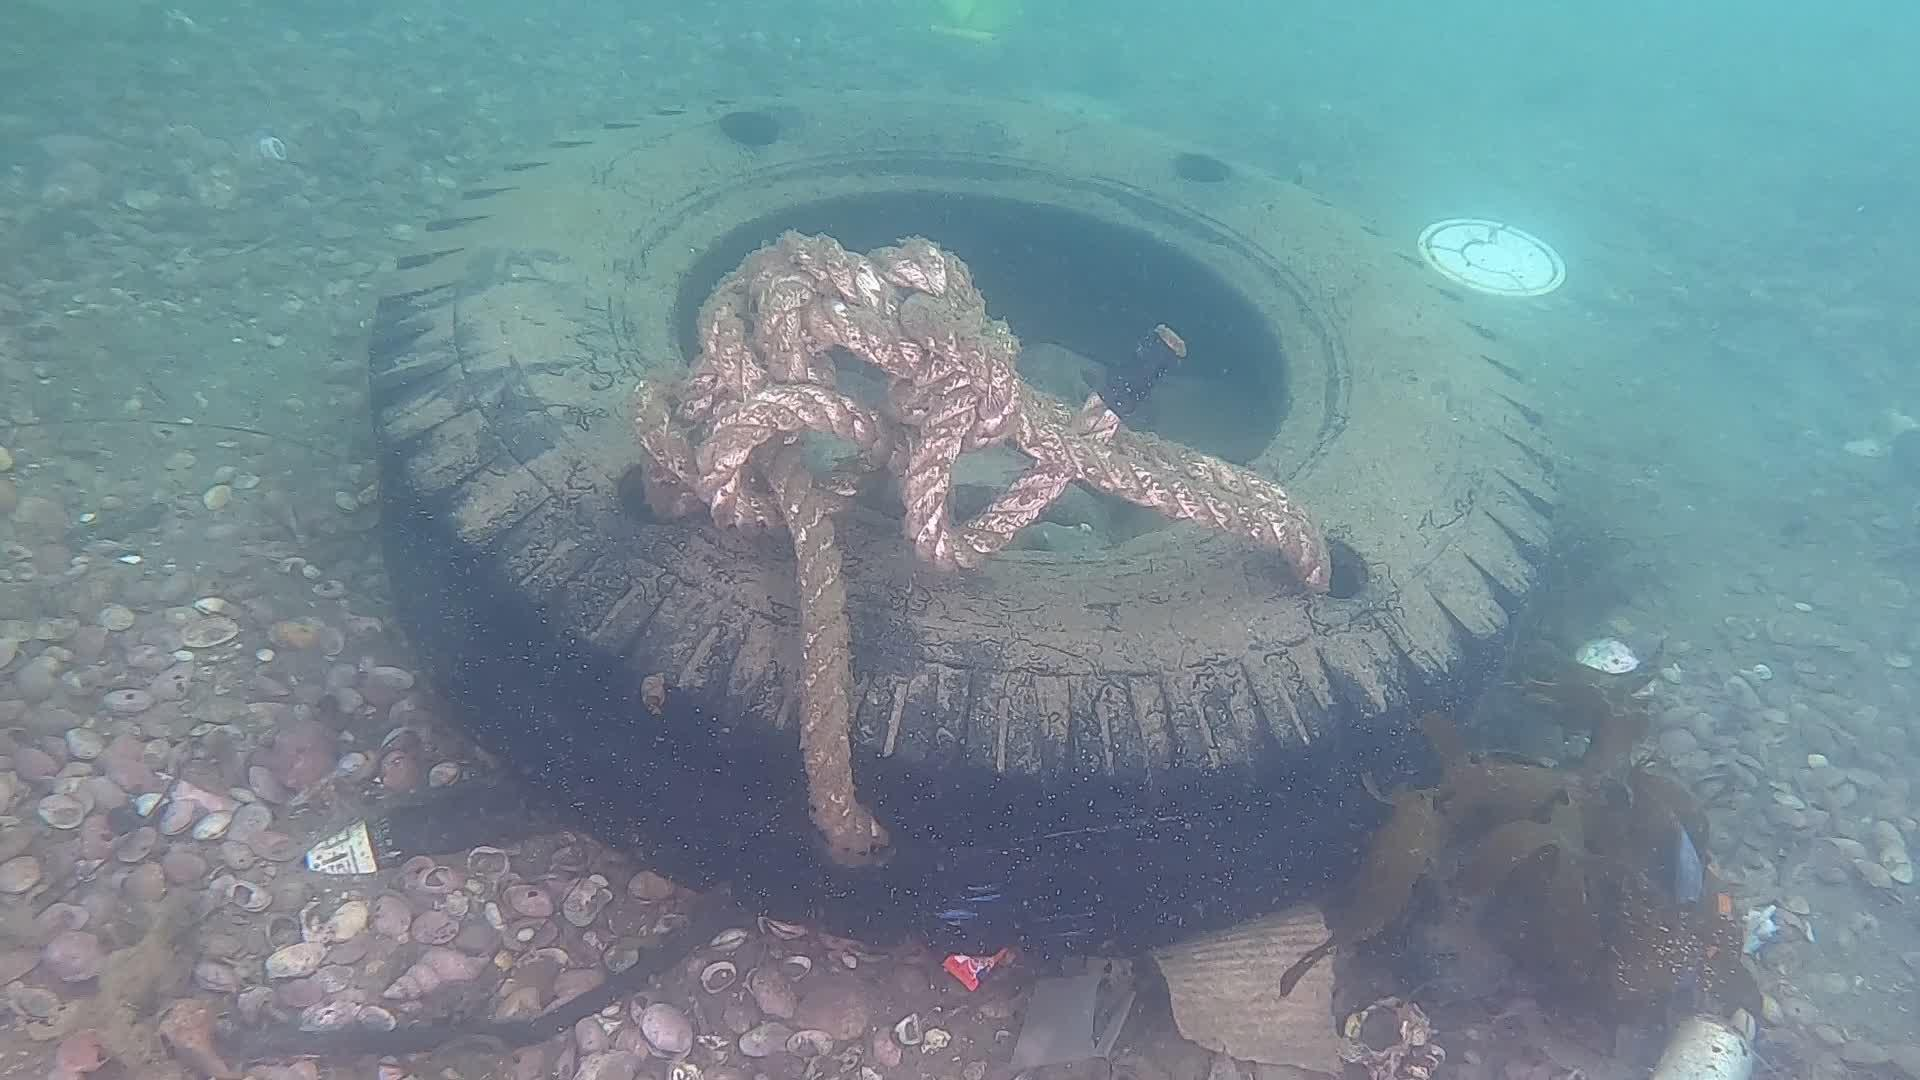bundle of ropes: (626, 224, 1338, 861)
tire: (363, 76, 1571, 951)
